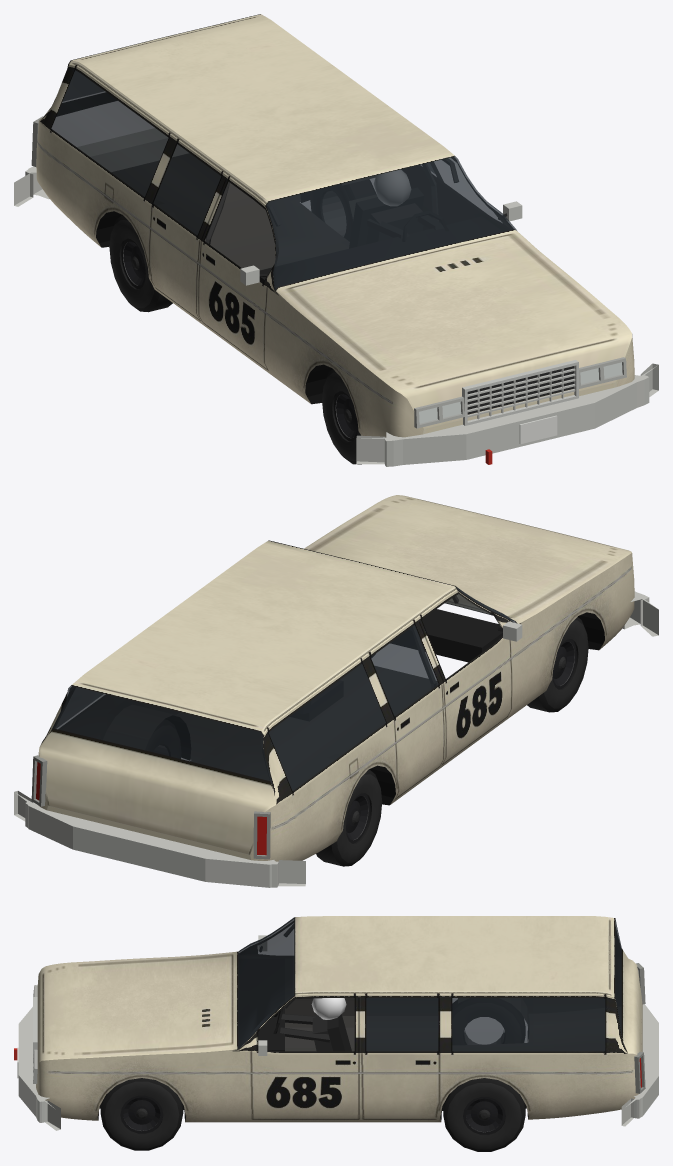
3 renders of one model, top to bottom at view 1: azimuth 30°, elevation 25°; view 2: azimuth 150°, elevation 25°; view 3: azimuth 270°, elevation 25°, orthographic. The views are drawn at different scales.
Parts seen in each view (by area): view 1: body, wheel_rr, wheel_fr, wheel_rl; view 2: body, wheel_rr, wheel_fr, wheel_rl; view 3: body, wheel_rl, wheel_fl, wheel_rr.
Part boxes in pixels (bbox=[...]): body: bbox=[14, 14, 658, 466]; wheel_rr: bbox=[109, 215, 172, 312]; wheel_fr: bbox=[322, 369, 361, 464]; wheel_rl: bbox=[310, 179, 375, 241]; body: bbox=[14, 495, 658, 887]; wheel_rr: bbox=[316, 769, 382, 866]; wheel_fr: bbox=[527, 617, 588, 712]; wheel_rl: bbox=[145, 719, 181, 758]; body: bbox=[14, 916, 658, 1130]; wheel_rl: bbox=[443, 1078, 525, 1151]; wheel_fl: bbox=[100, 1078, 183, 1150]; wheel_rr: bbox=[452, 998, 525, 1044].
Size of the model in its own units: 2.46 by 1.47 by 5.55.
3 materials, 2 textured.
